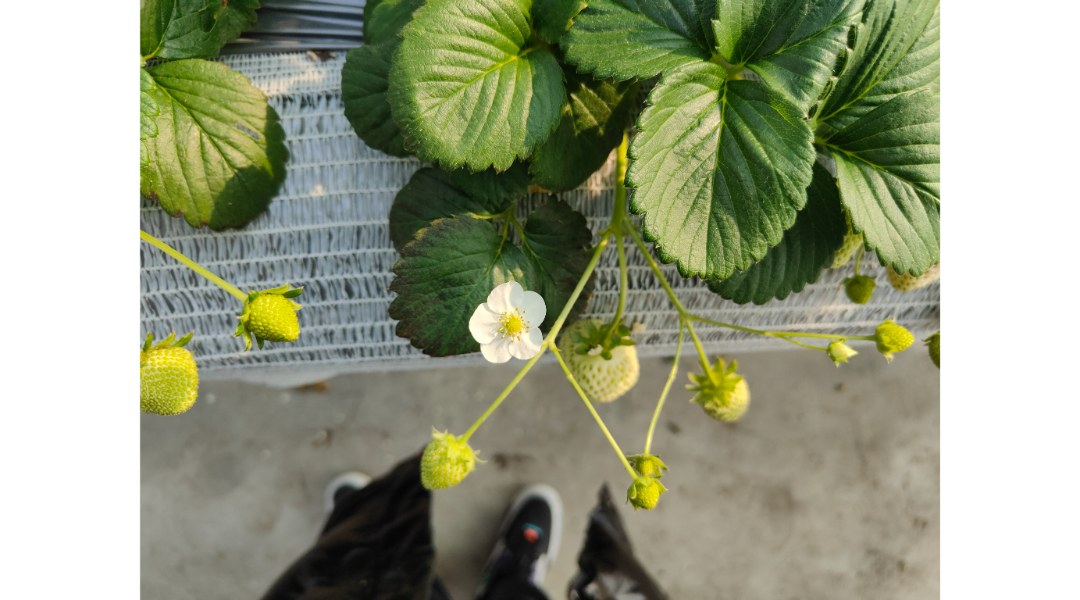berry: (563, 312, 641, 414), (134, 332, 207, 419), (691, 359, 755, 434), (417, 424, 480, 499), (244, 283, 315, 345), (869, 313, 922, 367), (618, 468, 670, 511), (622, 443, 673, 480), (818, 337, 856, 368)
flower: (464, 281, 543, 365)
strain: (130, 221, 255, 299), (552, 353, 629, 462), (454, 355, 545, 440), (545, 242, 613, 339), (641, 327, 683, 452), (632, 227, 688, 309), (692, 309, 767, 336), (688, 330, 717, 382), (612, 154, 631, 228), (613, 246, 629, 327)
